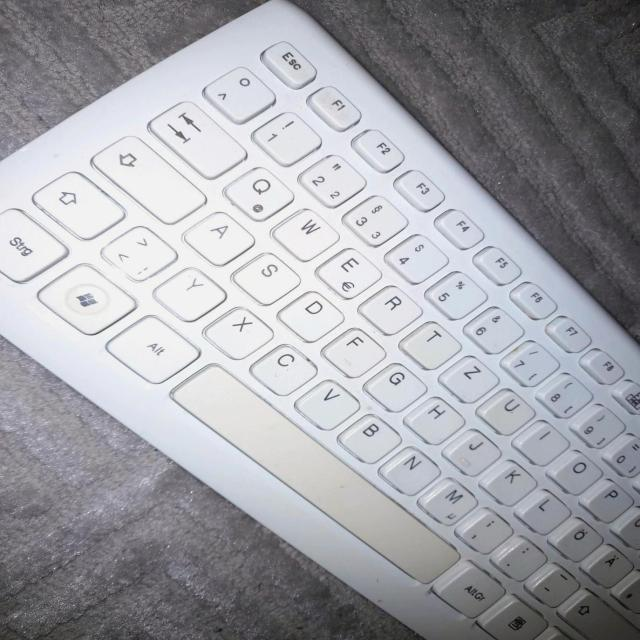0: (598, 431, 640, 476)
1: (250, 108, 321, 163)
2: (295, 151, 366, 207)
3: (339, 192, 408, 245)
4: (382, 231, 448, 282)
5: (422, 268, 487, 318)
6: (460, 304, 524, 353)
7: (498, 338, 558, 385)
8: (532, 370, 591, 417)
9: (566, 401, 623, 447)
a: (181, 208, 254, 264)
ae: (579, 542, 631, 586)
alt-left: (104, 312, 199, 382)
altgr-right: (431, 558, 504, 617)
b: (335, 412, 401, 463)
c: (245, 343, 317, 397)
caret: (201, 63, 275, 121)
comma: (452, 505, 512, 552)
d: (275, 287, 345, 342)
e: (314, 245, 381, 298)
f: (320, 325, 386, 377)
g: (361, 360, 427, 412)
h: (402, 394, 464, 443)
hash: (608, 569, 640, 613)
i: (509, 418, 568, 464)
j: (440, 427, 500, 474)
k: (477, 457, 535, 504)
keyboard: (1, 0, 640, 640)
l: (511, 487, 568, 533)
less: (98, 223, 177, 281)
m: (416, 475, 476, 525)
minus: (522, 562, 578, 606)
n: (376, 445, 440, 494)
o: (542, 448, 603, 494)
oe: (545, 515, 602, 561)
p: (577, 476, 633, 521)
point: (488, 534, 544, 580)
q: (220, 166, 294, 223)
r: (355, 283, 422, 334)
s: (229, 249, 300, 304)
shift-left: (31, 169, 126, 238)
shift-lock: (90, 135, 208, 224)
shift-right: (554, 588, 638, 640)
space: (163, 361, 462, 590)
strg-left: (0, 207, 67, 282)
t: (398, 319, 460, 368)
tab: (145, 97, 244, 176)
u: (473, 386, 535, 434)
ue: (608, 504, 640, 549)
v: (292, 378, 360, 429)
w: (270, 205, 339, 260)
x: (200, 305, 274, 359)
y: (152, 266, 226, 321)
z: (436, 353, 499, 402)
